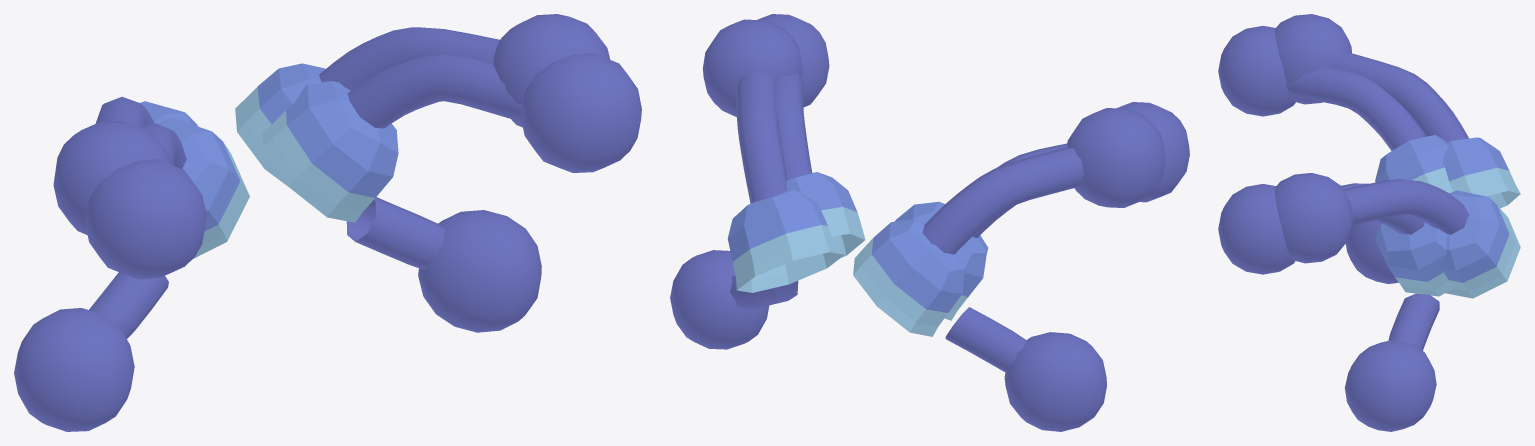
Rendered from ant_antennas.glb.
The picture shows the model from 3 angles, left to right: view 1: azimuth 30°, elevation 25°; view 2: azimuth 150°, elevation 25°; view 3: azimuth 270°, elevation 25°; orthographic projection. The views are drawn at different scales.
Parts seen in each view (by area): view 1: hat.013, top.012, top.011, headband.018, top.008, hat.014, headband.017, headband.016; view 2: headband.016, hat.013, headband.018, headband.017, top.012, top.011, hat.014, top.008; view 3: top.012, headband.018, headband.016, headband.017, hat.013, top.011, top.008, hat.014.
Part boxes in pixels (x1,y1,x2,y2): hat.013: (14,210,541,431); top.012: (85,53,641,279); top.011: (158,81,398,258); headband.018: (53,14,609,234); top.008: (142,54,522,168); hat.014: (89,197,445,338); headband.017: (95,27,499,127); headband.016: (140,63,325,186); headband.016: (727,189,965,336); hat.013: (670,250,1106,431); headband.018: (702,19,1165,207); headband.017: (736,70,1083,254); top.012: (757,14,1189,202); top.011: (763,172,988,320); hat.014: (730,275,1026,372); top.008: (774,74,1067,237); top.012: (1218,26,1295,274); headband.018: (1274,14,1352,263); headband.016: (1441,137,1520,298); headband.017: (1333,52,1469,234); hat.013: (1344,220,1436,431); top.011: (1375,135,1454,296); top.008: (1286,67,1425,234); hat.014: (1388,293,1439,350).
Size of the model in its own units: 2.22 by 1.34 by 1.45.
